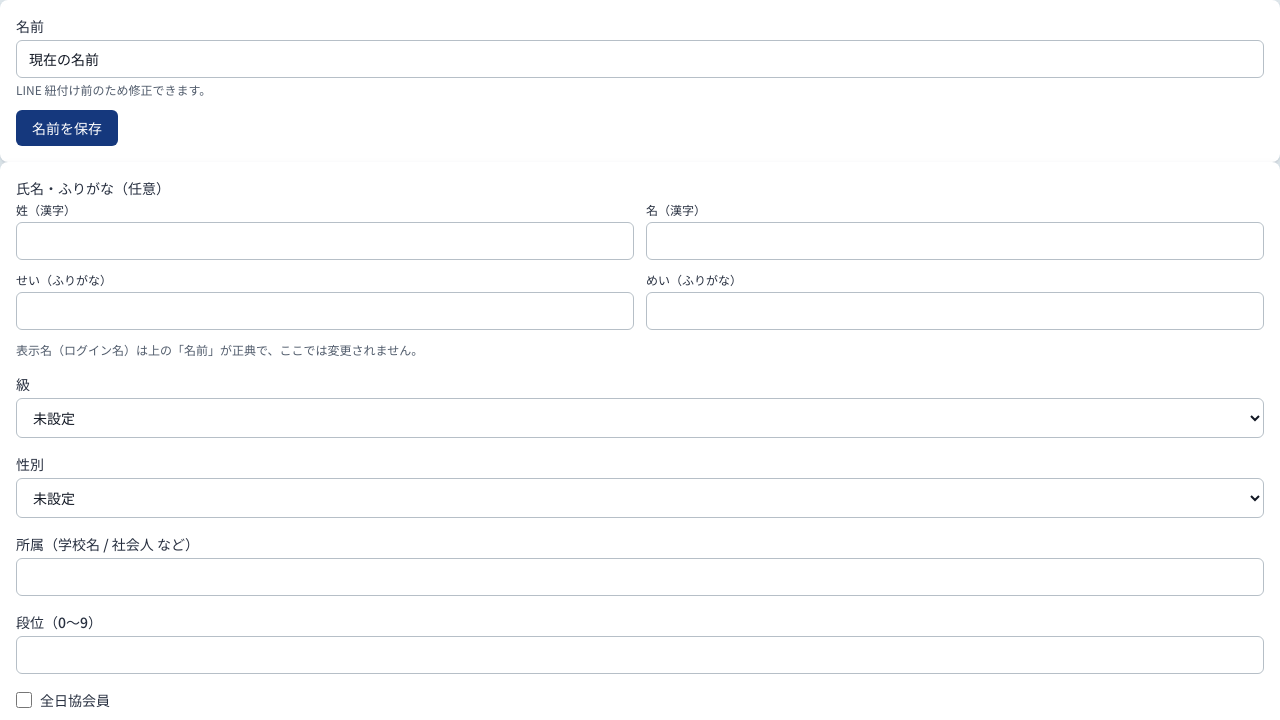
Test: EditMemberForm — nameEditable による名前編集の出し分け › 編集可: 名前フォーム送信で updateMemberName に userId と名前が渡る
Replace the text in the field labelled "名前" with "修正後の名前": (640, 59) x1=16 y1=40 x2=1264 y2=78
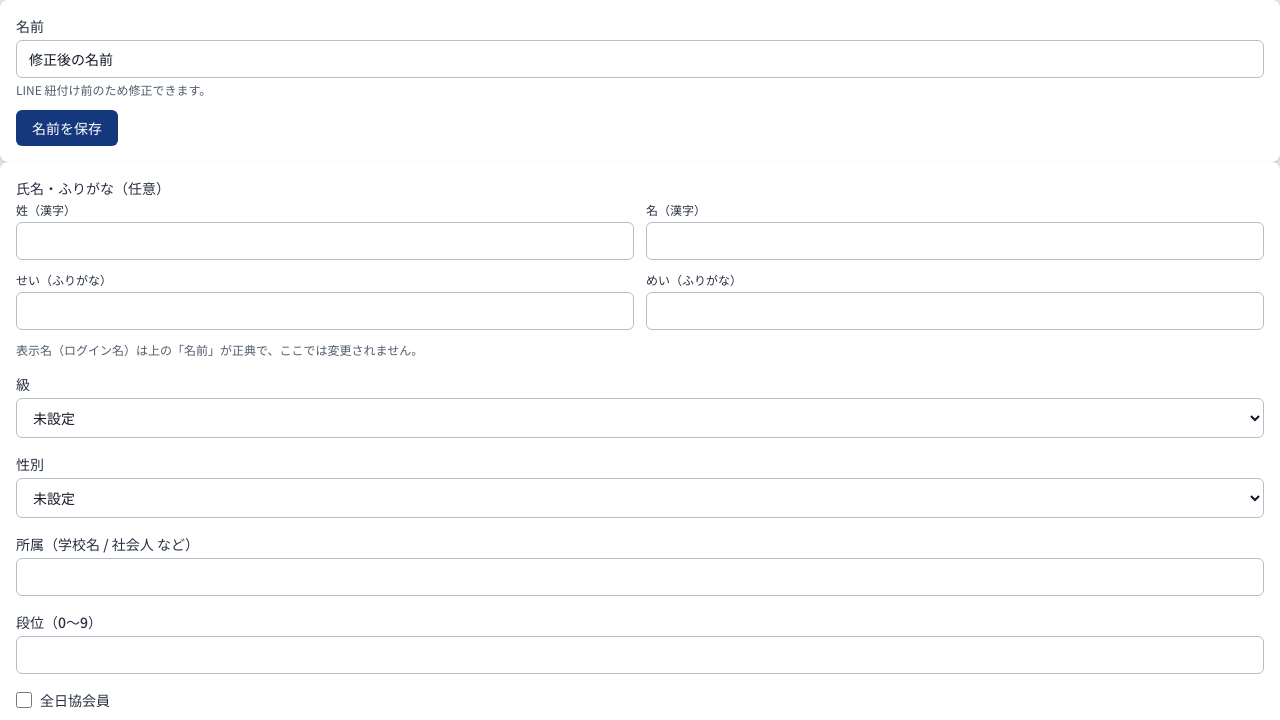
Submit the form "名前 LINE 紐付け前のため修正できます。 名前を保存", box x1=0 y1=0 x2=1279 y2=162
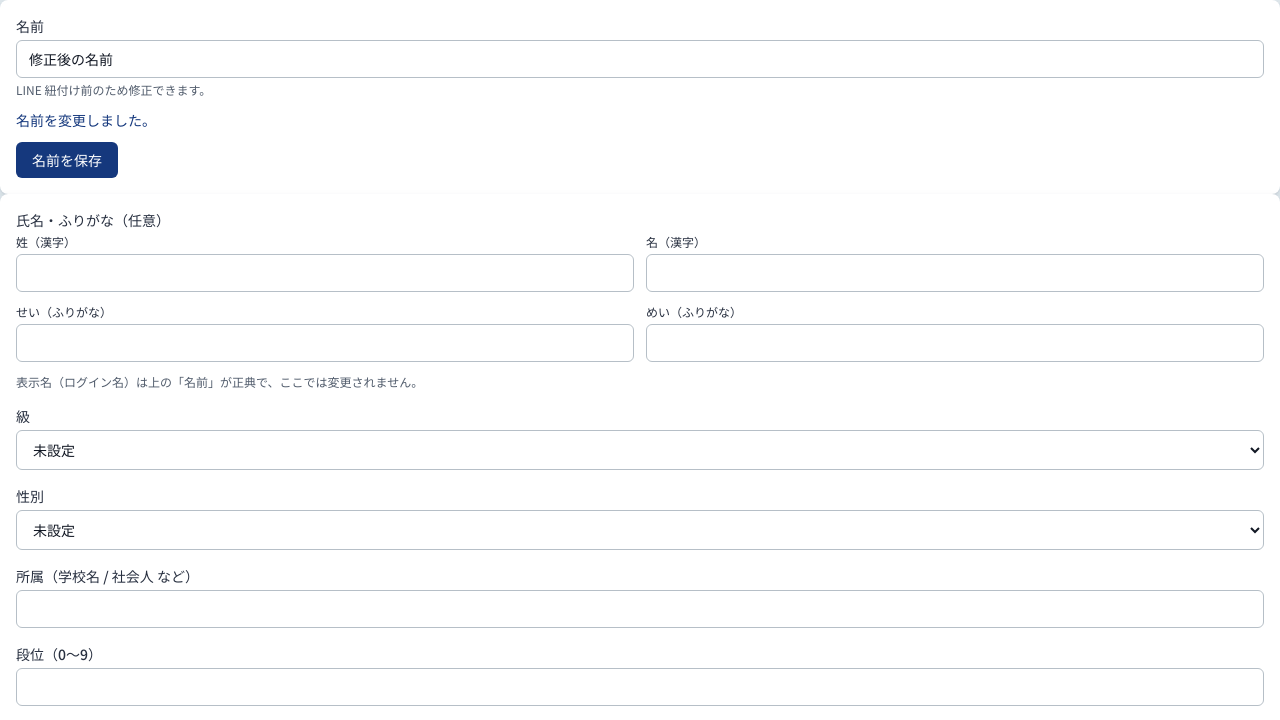
Result: the message reads "名前を変更しました。" at x1=16 y1=110 x2=156 y2=130
